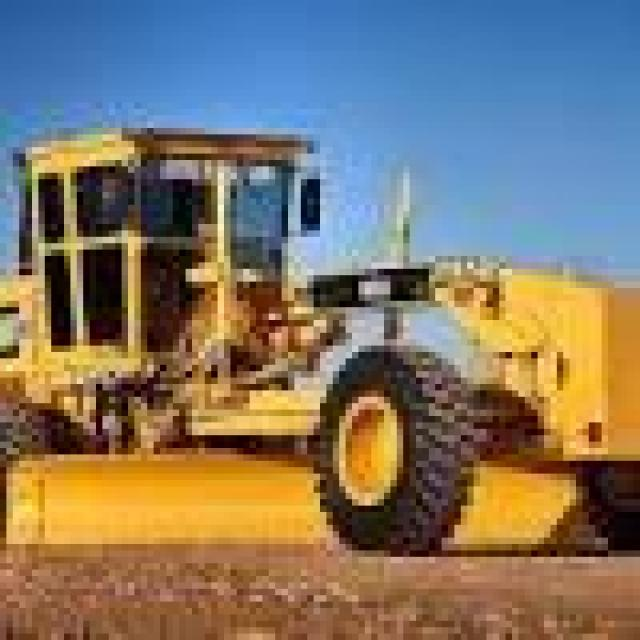Grader: (12, 64, 634, 550)
